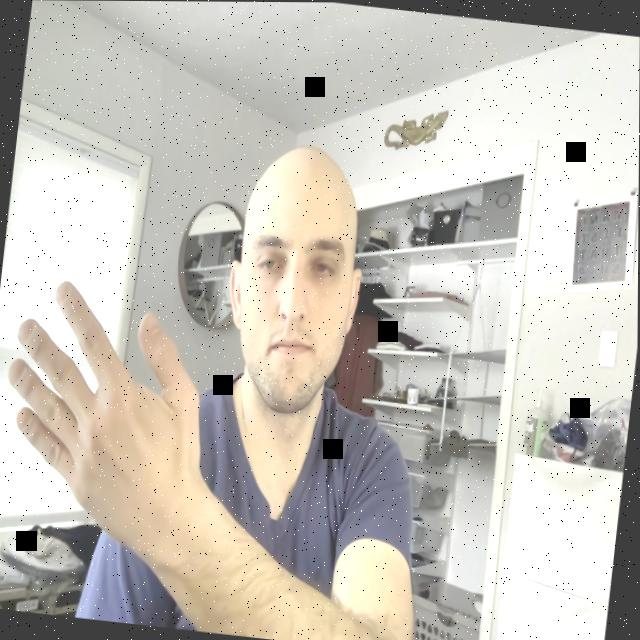Paper: (0, 263, 221, 567)
